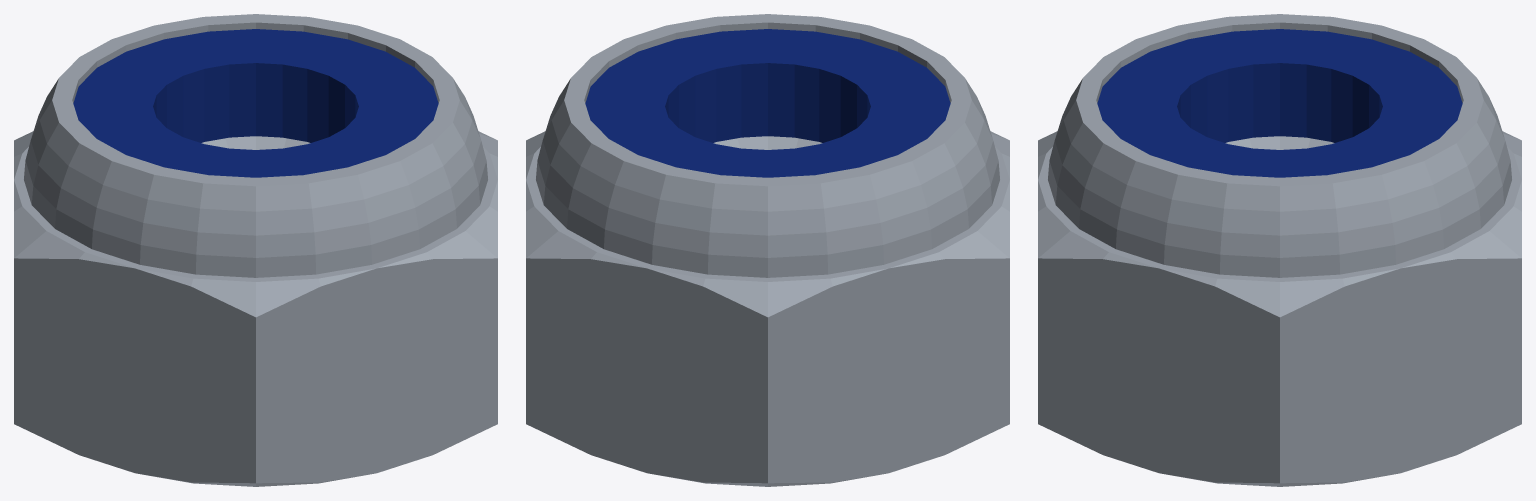
File: model_display.glb
3 renders of one model, left to right at view 1: azimuth 30°, elevation 25°; view 2: azimuth 150°, elevation 25°; view 3: azimuth 270°, elevation 25°, orthographic.
Parts seen in each view (by area): view 1: steel, nylon_insert; view 2: steel, nylon_insert; view 3: steel, nylon_insert.
Boxes of the visible parts, x1,y1,x2,y2 form: steel: (14,14,497,486); nylon_insert: (73,29,438,177); steel: (526,14,1009,486); nylon_insert: (585,29,950,177); steel: (1038,14,1521,486); nylon_insert: (1097,29,1462,177).
Bounding box in the file's own units: 0.006 × 0.00338 × 0.0052.
